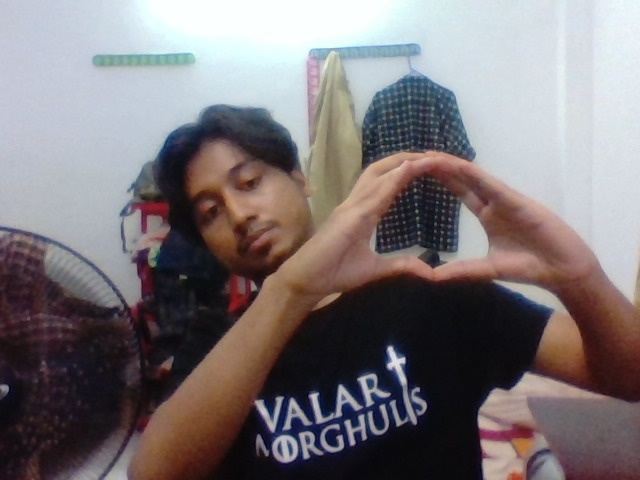O: (337, 136, 559, 306)
